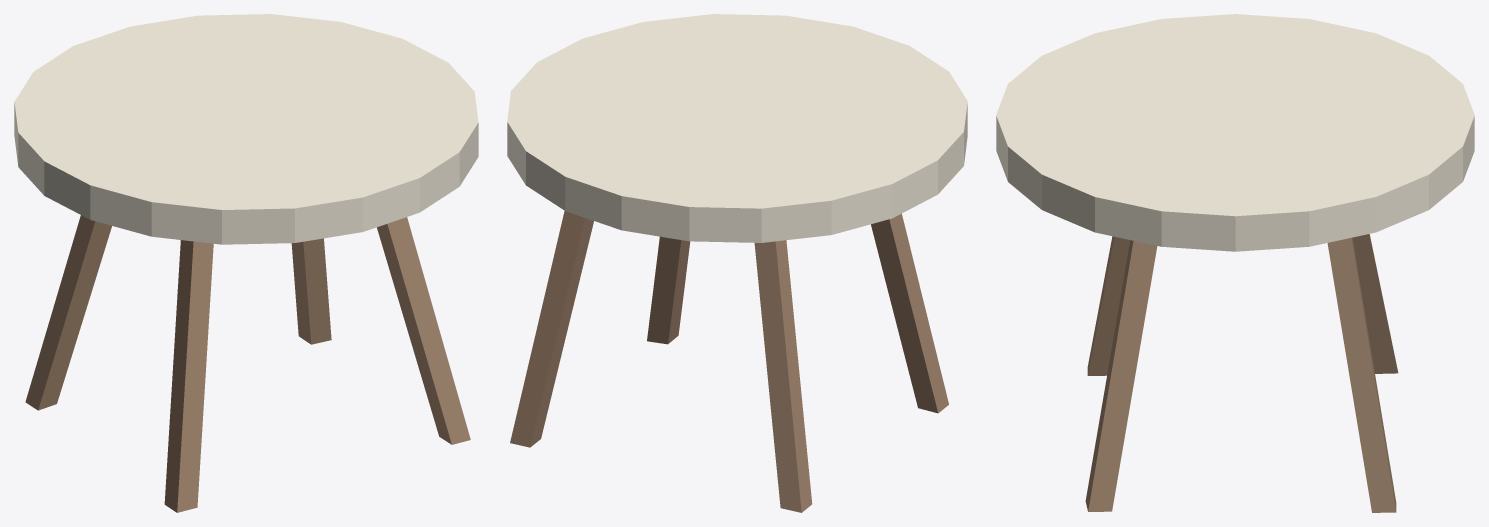
Rendered from Kitchen_2_Table.fbx.
3 renders of one model, left to right at view 1: azimuth 30°, elevation 25°; view 2: azimuth 150°, elevation 25°; view 3: azimuth 270°, elevation 25°, orthographic. The views are drawn at different scales.
Parts seen in each view (by area): view 1: Kitchen_2_Table; view 2: Kitchen_2_Table; view 3: Kitchen_2_Table.
Part boxes in pixels (left/top/right/bottom): Kitchen_2_Table: left=14, top=14, right=478, bottom=512; Kitchen_2_Table: left=507, top=14, right=967, bottom=512; Kitchen_2_Table: left=996, top=14, right=1474, bottom=512.
Size of the model in its own units: 154 by 154 by 114.
